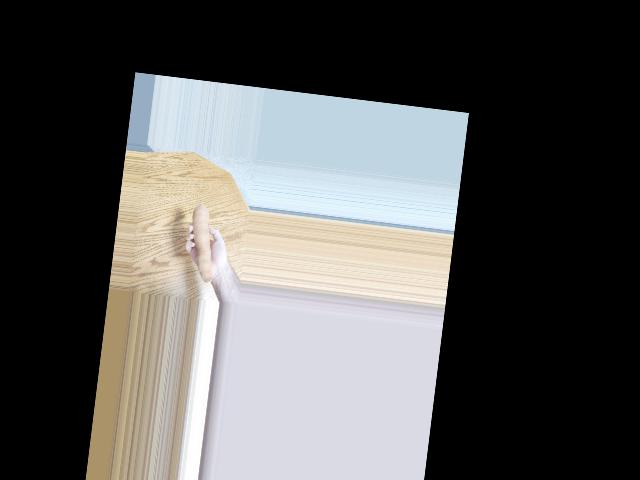sweet_potato: (181, 198, 223, 279)
